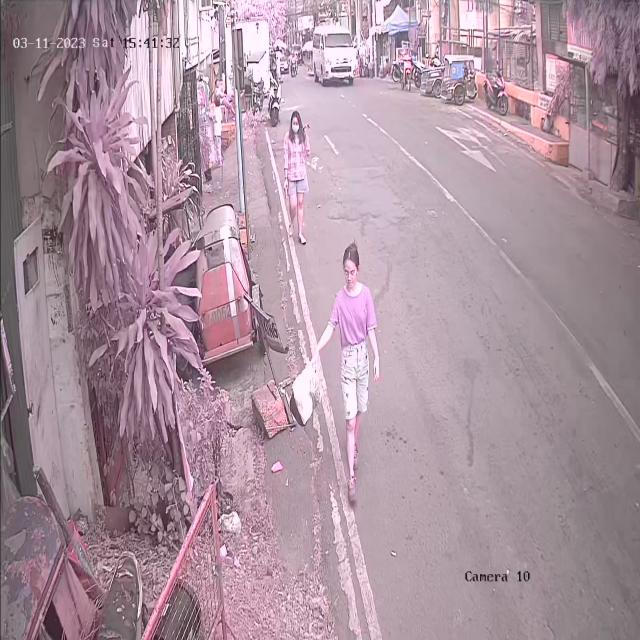human: (290, 242, 380, 504)
trash: (285, 350, 321, 438)
